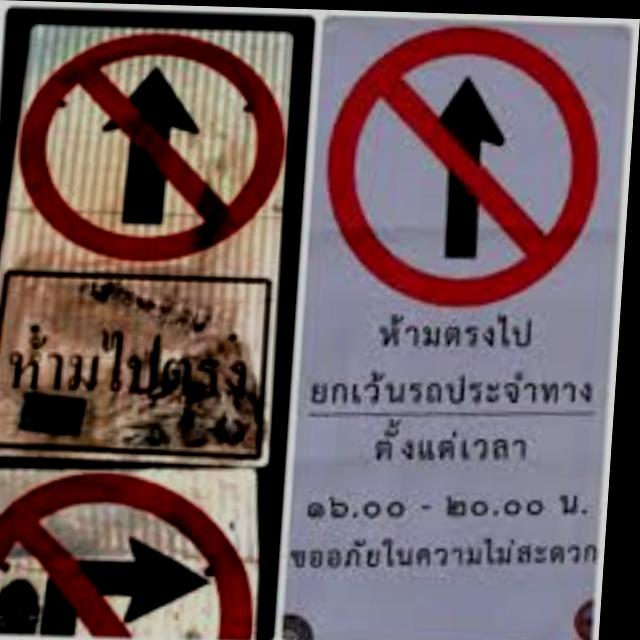not_go_straight: (322, 21, 608, 309), (22, 29, 289, 261)
not_turn_right: (0, 473, 263, 640)
